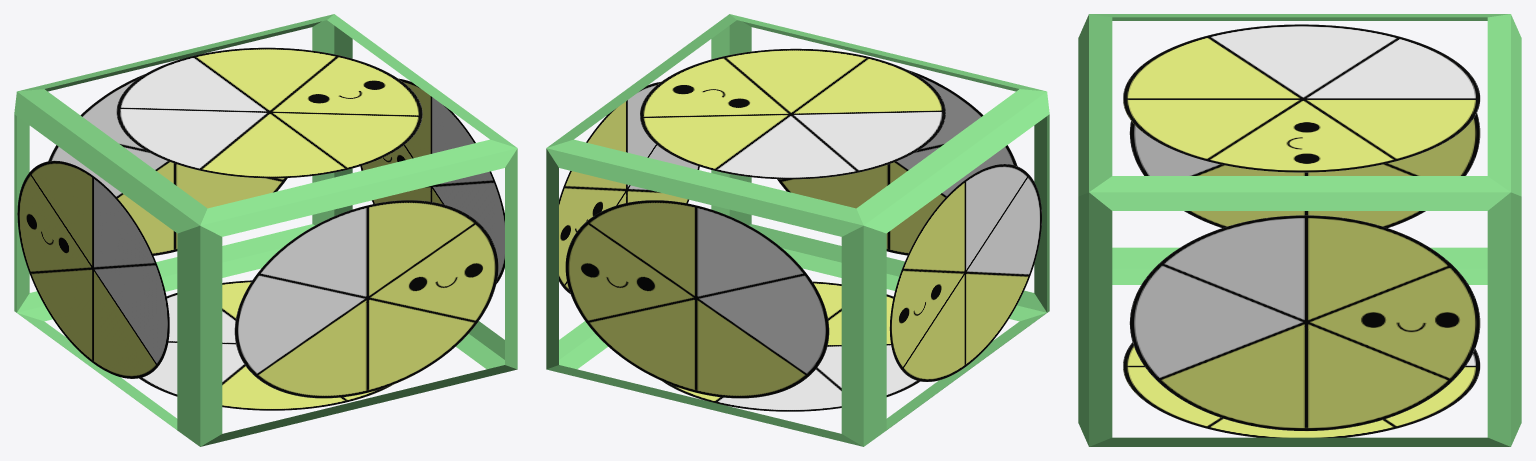
Rendered from Fracciones cuatro sextos.fbx.
3 views of the same model, side by side, from view 1: azimuth 30°, elevation 25°; view 2: azimuth 150°, elevation 25°; view 3: azimuth 270°, elevation 25° (orthographic). The views are drawn at different scales.
Visible parts, largest first — view 1: 4/6; view 2: 4/6; view 3: 4/6.
Boxes of the visible parts, box(x1,y1,x2,y2) form: 4/6: box(14, 14, 517, 446); 4/6: box(546, 14, 1049, 446); 4/6: box(1078, 14, 1521, 446).
Size of the model in its own units: 213 by 140 by 210.
Materials: 2 (1 with a texture image).
